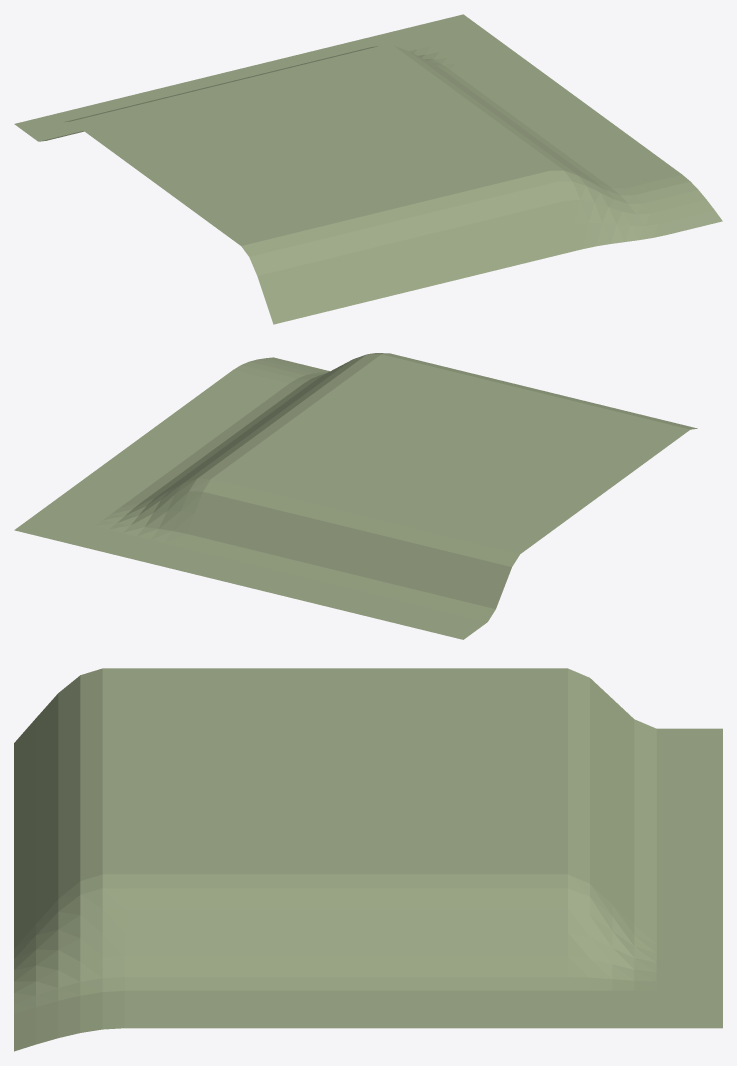
File: railway-2-0.glb
3 renders of one model, top to bottom at view 1: azimuth 30°, elevation 25°; view 2: azimuth 150°, elevation 25°; view 3: azimuth 270°, elevation 25°, orthographic. The views are drawn at different scales.
Parts seen in each view (by area): view 1: railway-2-0; view 2: railway-2-0; view 3: railway-2-0.
Part boxes in pixels (left/top/right/bottom): railway-2-0: left=14, top=14, right=722, bottom=324; railway-2-0: left=14, top=353, right=697, bottom=639; railway-2-0: left=14, top=668, right=722, bottom=1051.
Size of the model in its own units: 128 by 16.64 by 128.
